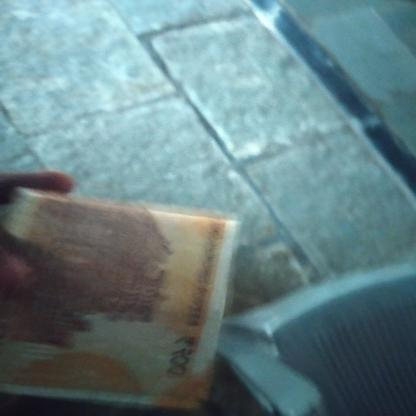New200Back: (5, 194, 214, 403)
